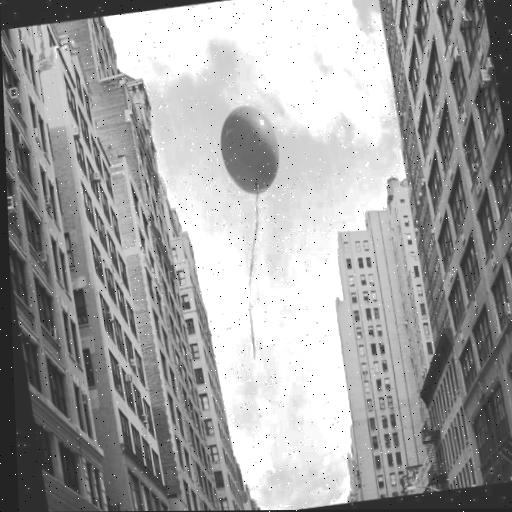balloon: (211, 93, 295, 209)
